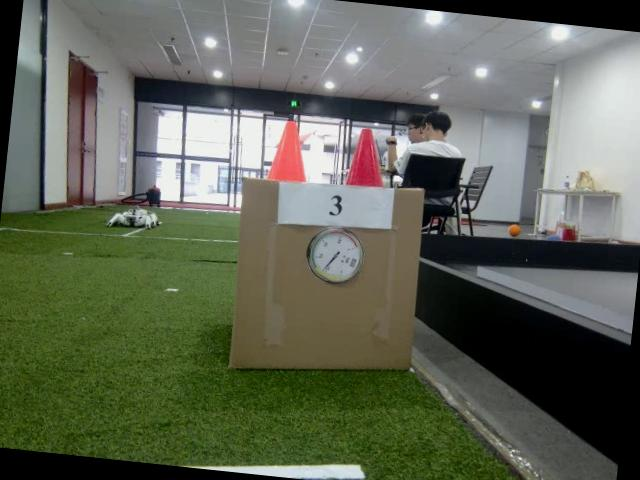3: (327, 193, 347, 217)
Dashboard: (303, 226, 366, 287)
orange_barrel: (265, 120, 315, 184)
red_barrel: (343, 125, 391, 190)
ssi: (348, 258, 357, 269)
